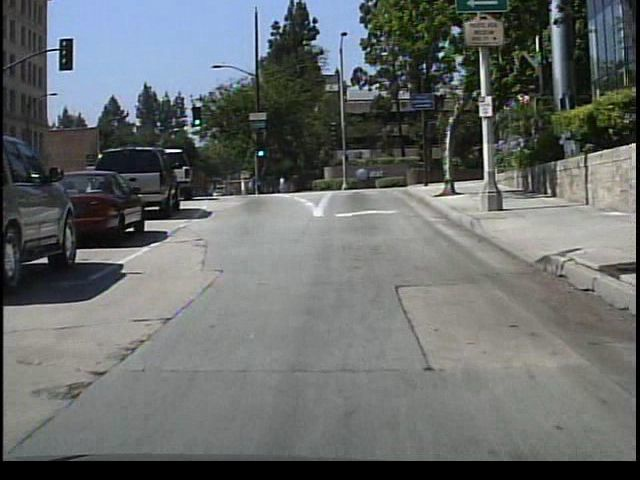person: (245, 168, 261, 197), (275, 170, 290, 196)
